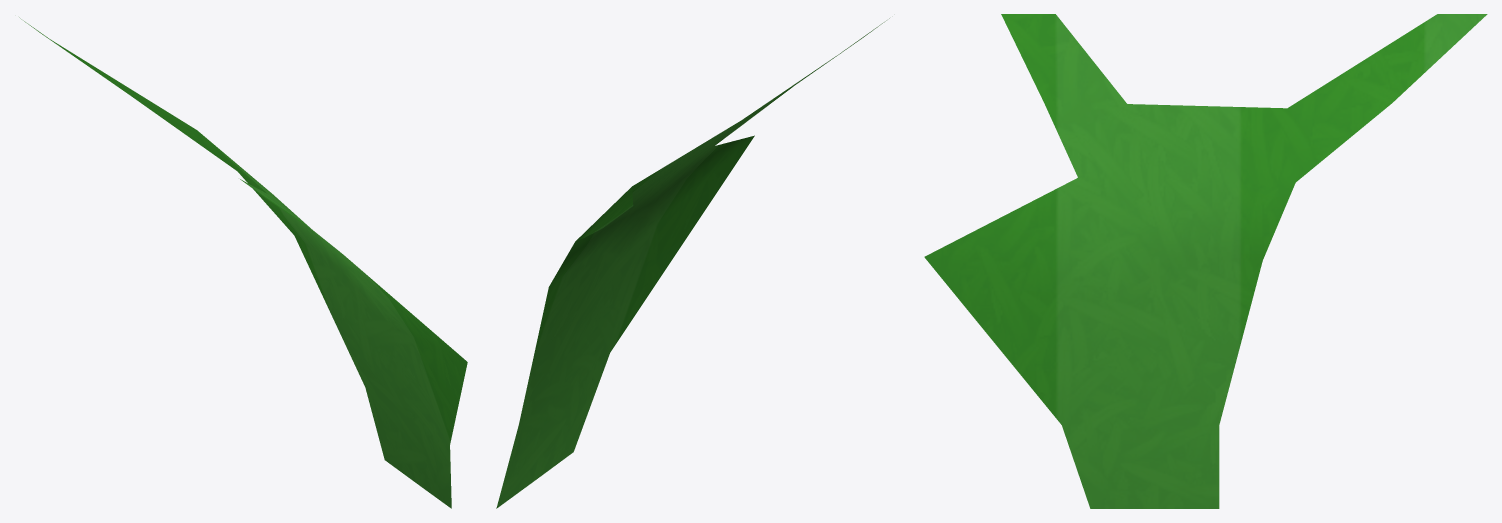
The model's file is Grass.fbx.
3 renders of one model, left to right at view 1: azimuth 30°, elevation 25°; view 2: azimuth 150°, elevation 25°; view 3: azimuth 270°, elevation 25°, orthographic. The views are drawn at different scales.
Visible parts, largest first — view 1: pPlane12; view 2: pPlane12; view 3: pPlane12.
Boxes of the visible parts, left/top/right/bottom form: pPlane12: left=19, top=17, right=467, bottom=508; pPlane12: left=496, top=18, right=889, bottom=508; pPlane12: left=924, top=14, right=1487, bottom=508.
Bounding box in the file's own units: 44.91 × 74.29 × 98.28.
